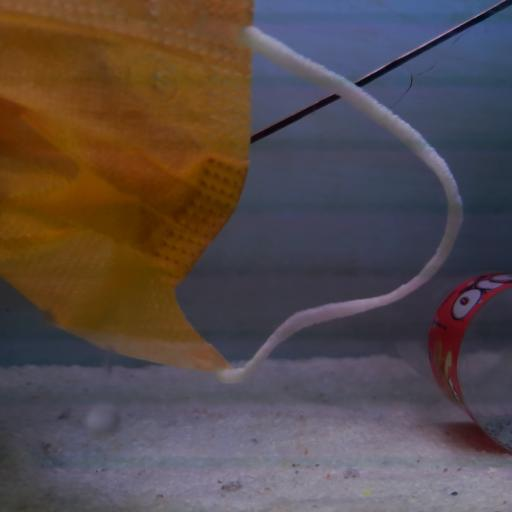mask: (0, 2, 465, 385)
plastic_bottle: (385, 268, 512, 456)
